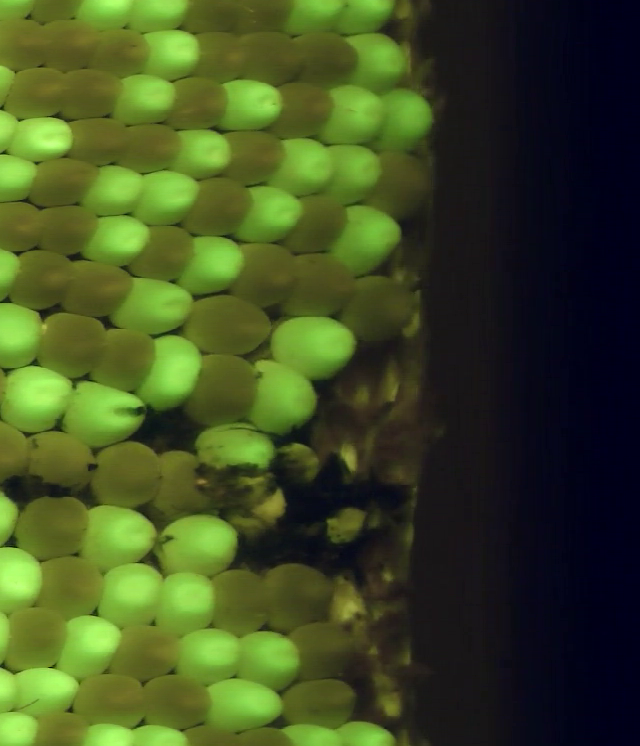fluorescent: (122, 328, 210, 418), (54, 376, 154, 452), (73, 500, 164, 576), (268, 313, 359, 386), (324, 202, 408, 279), (150, 510, 243, 579), (0, 360, 78, 441), (242, 357, 323, 435), (195, 671, 296, 732), (189, 415, 284, 476), (105, 275, 195, 337), (311, 81, 394, 148), (93, 559, 165, 636), (259, 132, 340, 200), (228, 181, 308, 248), (169, 624, 250, 690), (173, 232, 250, 299), (314, 140, 392, 206), (339, 26, 412, 96), (102, 69, 184, 131), (230, 627, 310, 690), (146, 568, 224, 630), (131, 165, 203, 232), (371, 85, 440, 153), (11, 661, 83, 726), (75, 161, 151, 222), (216, 76, 292, 135), (76, 212, 157, 265), (1, 113, 80, 167), (140, 26, 207, 85), (165, 125, 236, 180), (0, 542, 50, 620), (0, 297, 49, 374), (276, 1, 355, 45), (333, 1, 405, 42), (119, 1, 193, 36), (0, 151, 43, 207), (71, 1, 140, 35), (0, 240, 30, 308), (0, 710, 45, 746)
nonfluorescent: (334, 268, 426, 349), (177, 291, 277, 364), (270, 248, 366, 323), (9, 491, 96, 567), (259, 557, 340, 637), (180, 350, 262, 427), (168, 173, 259, 240), (34, 307, 113, 383), (26, 552, 112, 621), (90, 437, 167, 514), (68, 666, 156, 733), (363, 145, 440, 221), (226, 236, 305, 310), (0, 603, 78, 677), (280, 25, 367, 90), (283, 616, 366, 684), (202, 564, 277, 639), (84, 321, 160, 394), (148, 446, 223, 519), (276, 673, 364, 735), (120, 221, 201, 288), (139, 669, 221, 735), (21, 429, 103, 495), (59, 254, 136, 324), (263, 78, 340, 146), (7, 244, 80, 314), (211, 124, 294, 185), (99, 620, 186, 677), (54, 62, 134, 123), (232, 26, 311, 87), (278, 191, 351, 257), (160, 72, 235, 135), (110, 118, 190, 177), (23, 152, 103, 209), (57, 113, 138, 168), (0, 62, 74, 122), (34, 202, 103, 260), (33, 14, 105, 68), (0, 14, 61, 76), (87, 25, 159, 74), (191, 28, 253, 81), (0, 196, 52, 256), (177, 1, 254, 38), (0, 415, 36, 493), (27, 707, 91, 746), (241, 1, 298, 32)
